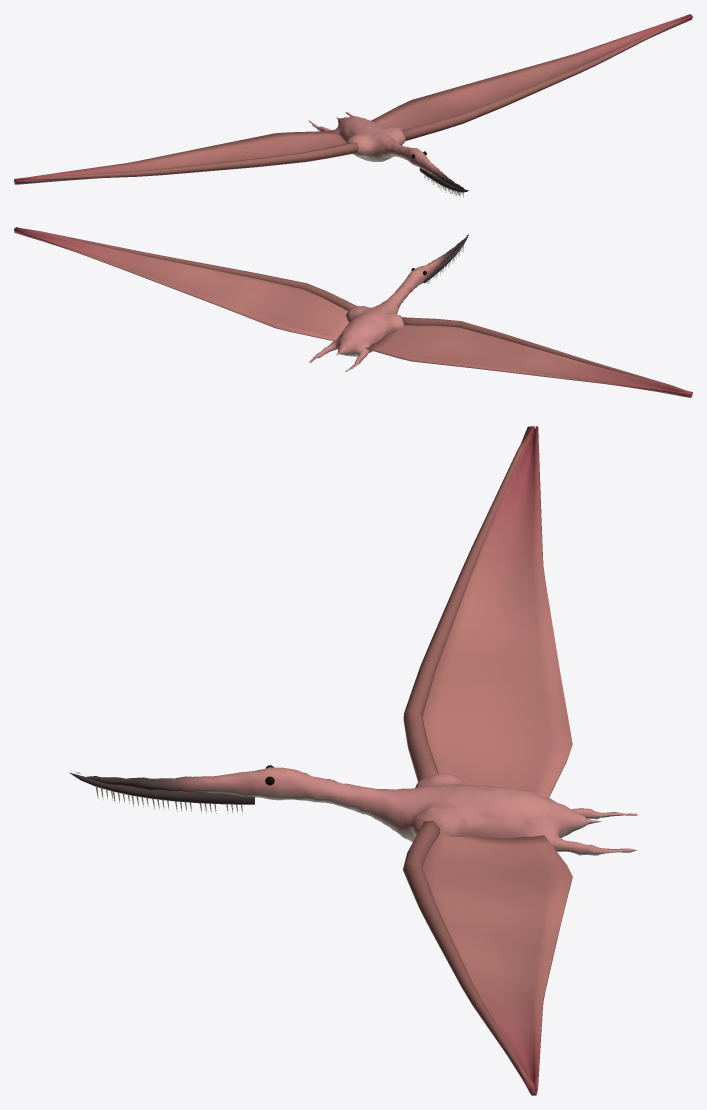
The model's file is Pterodaustro.fbx.
3 renders of one model, top to bottom at view 1: azimuth 30°, elevation 25°; view 2: azimuth 150°, elevation 25°; view 3: azimuth 270°, elevation 25°, orthographic. The views are drawn at different scales.
Visible parts, largest first — view 1: Pterodaustro; view 2: Pterodaustro; view 3: Pterodaustro.
Boxes of the visible parts, x1=… form: Pterodaustro: x1=14, y1=14, x2=692, y2=197; Pterodaustro: x1=14, y1=227, x2=692, y2=397; Pterodaustro: x1=69, y1=426, x2=637, y2=1095.
Size of the model in its own units: 2.6 by 0.1812 by 0.9482.
